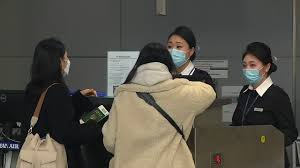masked: (164, 28, 196, 70), (239, 43, 272, 83)
